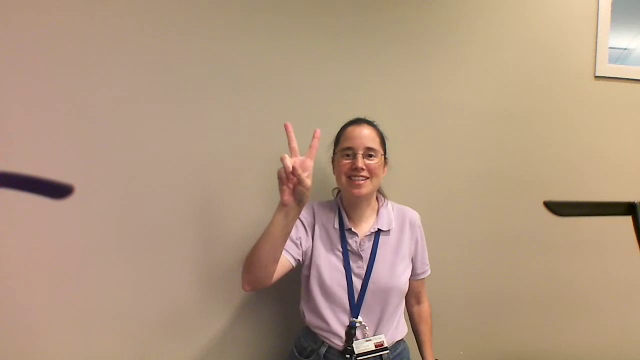peace: (271, 113, 324, 212)
